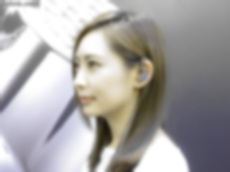earphone: (134, 60, 154, 88)
